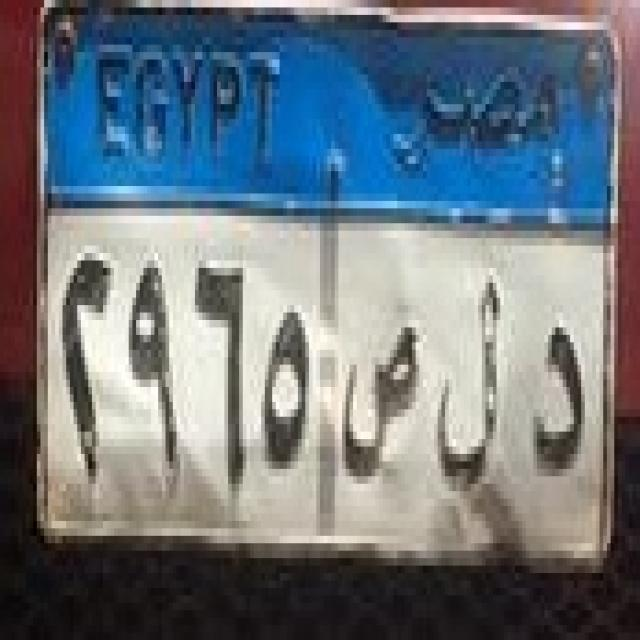2: (50, 239, 124, 488)
5: (253, 295, 319, 483)
6: (192, 244, 253, 492)
9: (124, 243, 188, 490)
Laam: (433, 276, 503, 497)
Saad: (334, 294, 426, 502)
daal: (526, 308, 593, 484)
